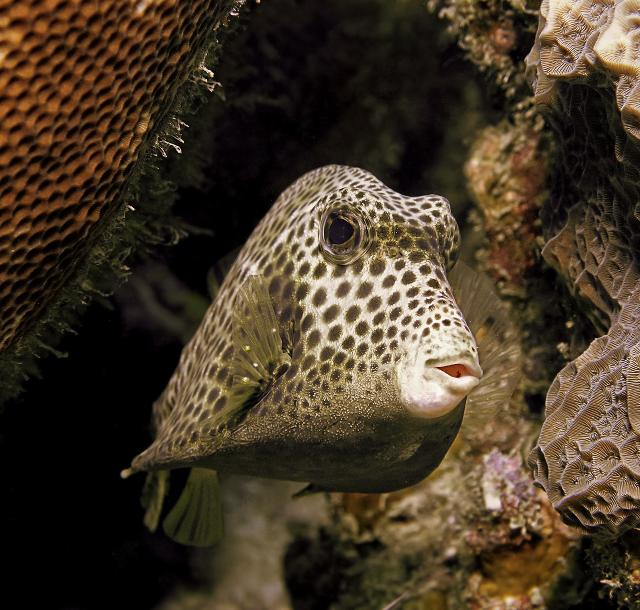Mulut: (374, 314, 502, 440)
Sirip Dada: (198, 249, 314, 469)
